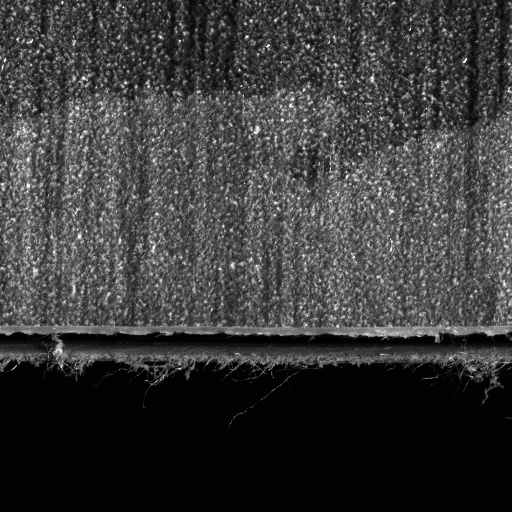kaijiao: (0, 319, 511, 375)
